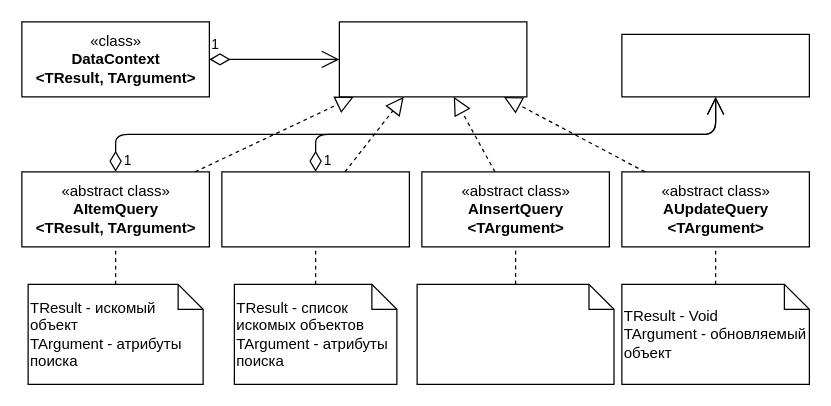
Some shapes in this 831 by 406 pixel diagram are drawn without their labels. The centre of each missing label's shape, as x and y in pixels:
TResult - Integer, индекс добавленного объекта TArgument - добавляемый объект: pixel 515 333
«abstract class» AListQuery <TResult, TArgument>: pixel 315 209
«class» EntityFactory: pixel 715 65
«interface» ISqlQueryable <TResult, TArgument>: pixel 432 59
